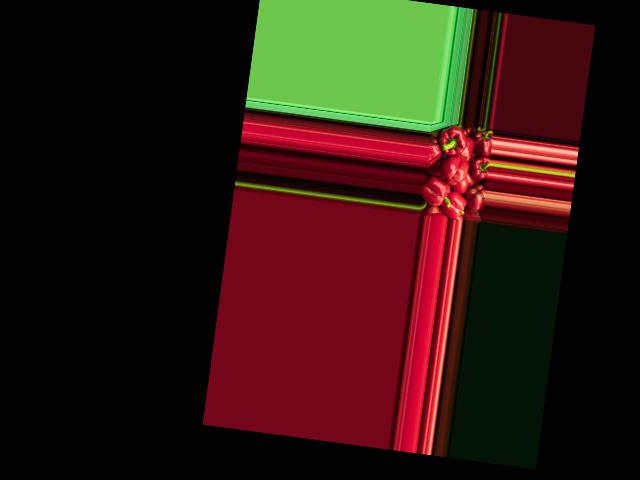bell_pepper: (472, 128, 493, 156)
